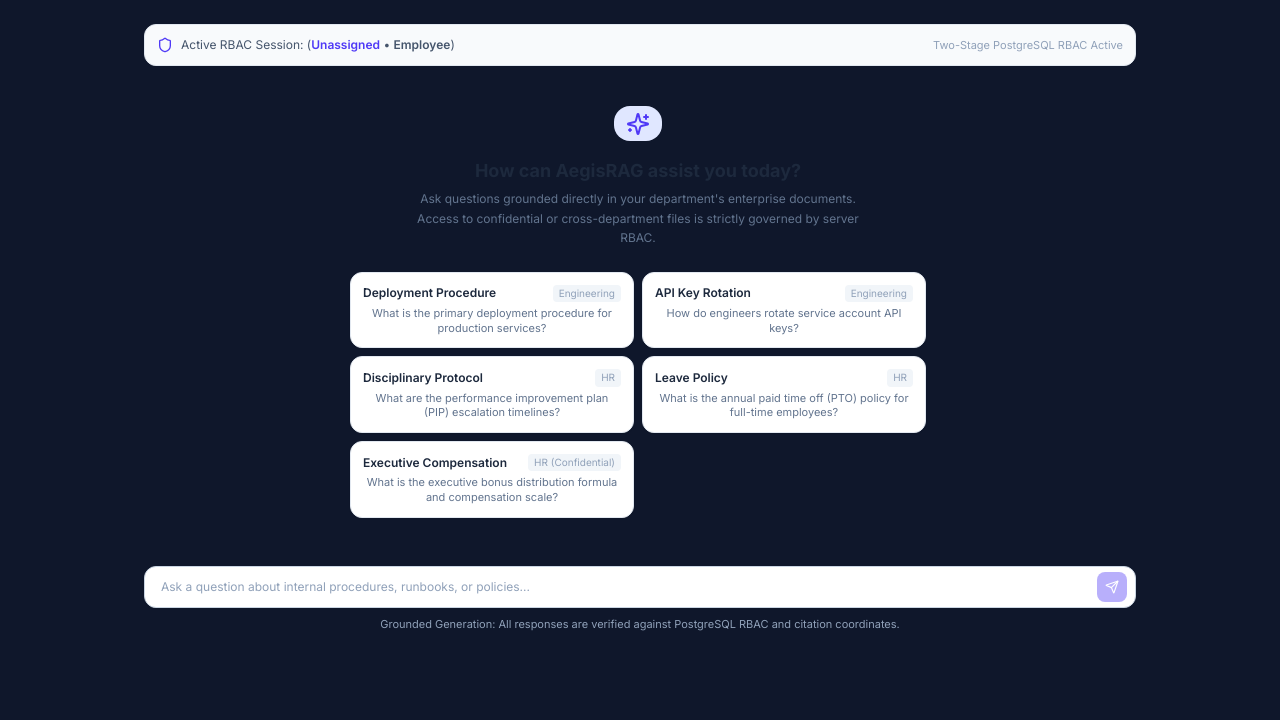
Test case: ChatPage Component › renders grounded assistant response with citations on successful query
Replace the text in the field with placeholder "Ask a question about internal procedures, runbooks, or policies..." with "What is the server deployment checklist?" at [621, 586], box [145, 566, 1097, 606]
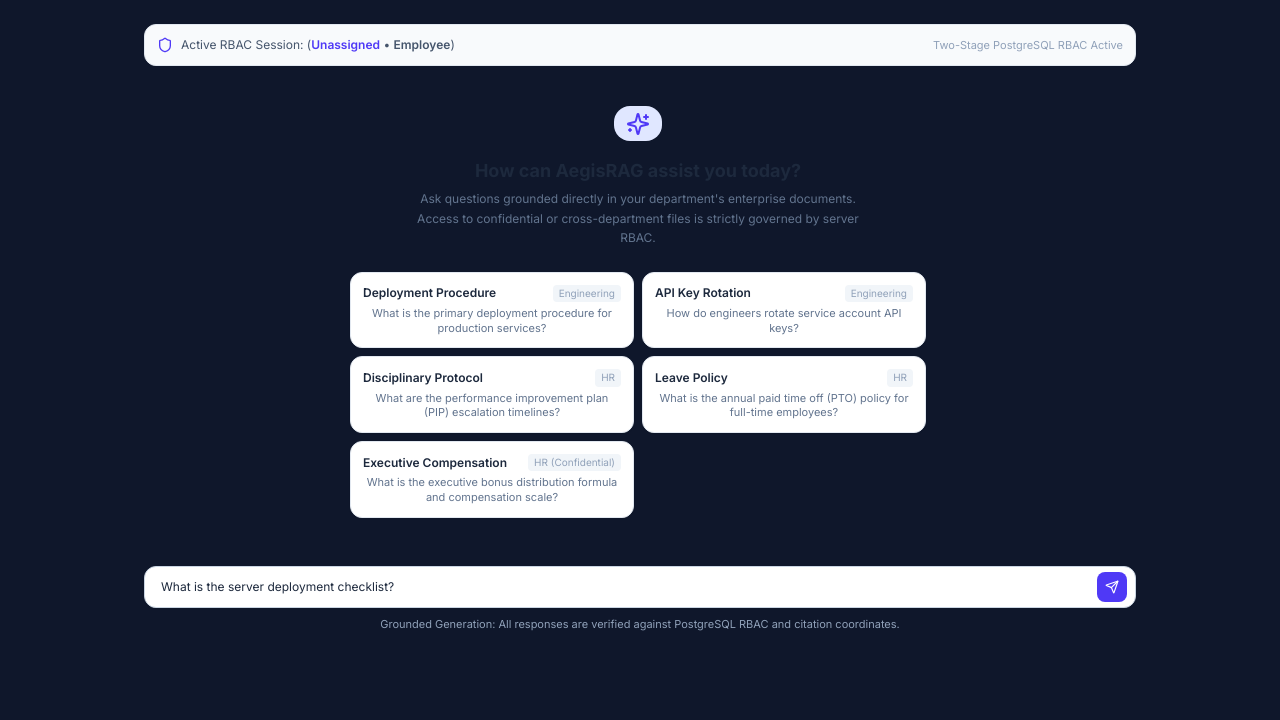
Click the button titled "Submit Query" at [1112, 586], box [1097, 572, 1127, 602]
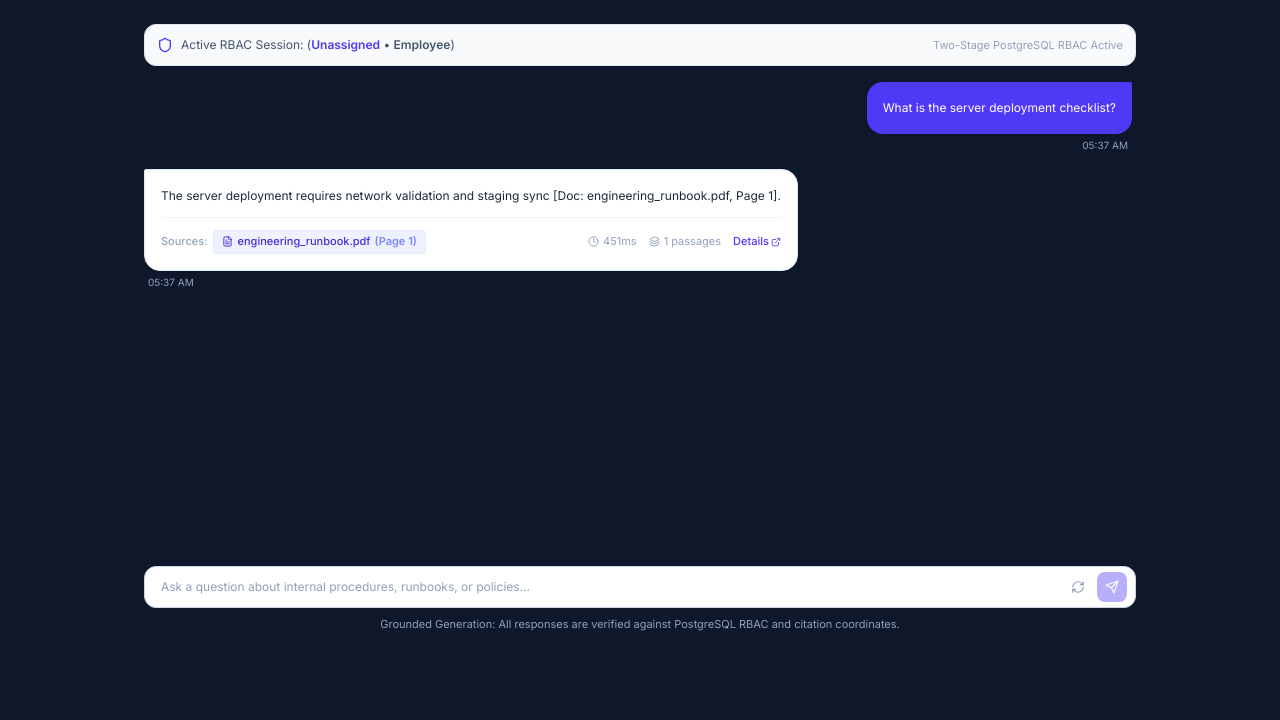
Expected: the text "The server deployment requires network validation and staging sync" is shown, [161, 188, 781, 202]
Expected: the text "engineering_runbook.pdf" is shown, [238, 233, 371, 251]
Expected: the text "(Page 1)" is shown, [374, 233, 417, 251]
